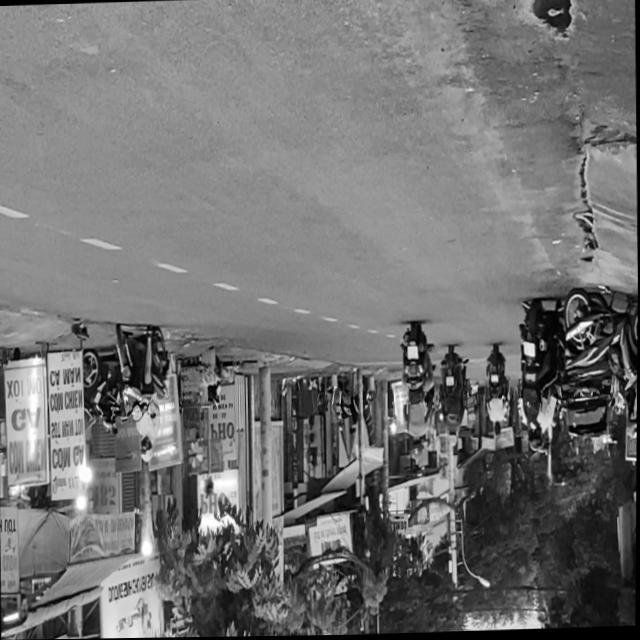helmet: (528, 427, 542, 454), (139, 438, 153, 464), (540, 432, 550, 456)
licenseplate: (113, 321, 173, 465), (515, 298, 566, 457)
nohelmet: (523, 345, 535, 359)
